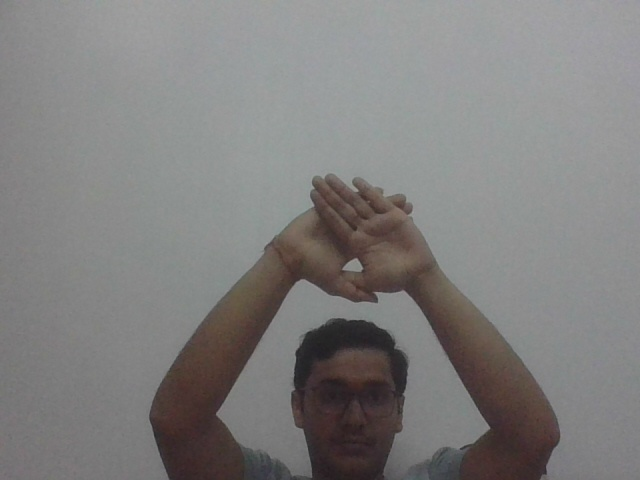W: (284, 172, 435, 307)
